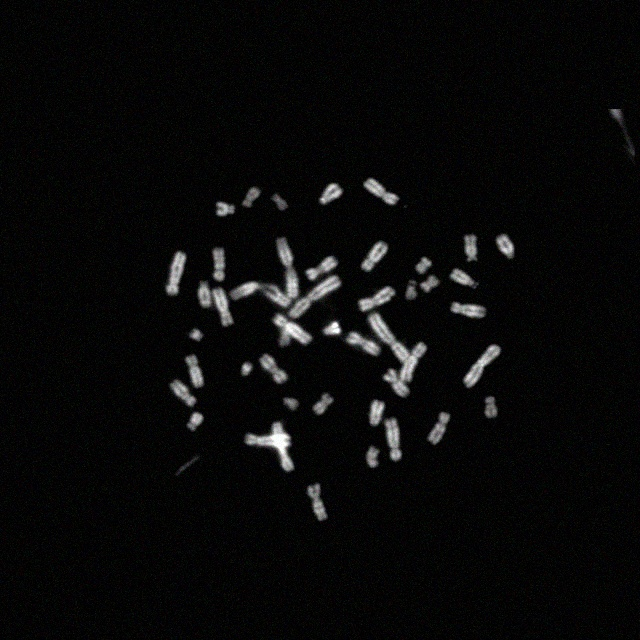chromosome: (368, 312, 414, 372), (290, 274, 342, 318), (228, 280, 290, 308), (463, 344, 501, 388), (276, 238, 298, 300), (400, 342, 428, 382), (272, 422, 294, 472), (274, 314, 310, 344), (165, 250, 187, 296), (365, 177, 399, 205), (358, 285, 394, 311), (259, 353, 287, 385), (306, 253, 338, 280), (361, 242, 389, 272), (212, 288, 233, 328), (384, 418, 404, 460), (346, 332, 380, 356), (382, 369, 410, 397), (243, 432, 292, 448), (428, 411, 450, 445), (308, 484, 327, 522), (185, 353, 205, 387), (449, 268, 479, 290), (450, 301, 486, 319), (172, 381, 196, 407), (496, 234, 516, 260), (211, 248, 227, 280), (320, 182, 342, 204), (312, 393, 334, 415), (367, 400, 385, 426), (243, 187, 262, 210), (464, 234, 478, 264), (197, 280, 211, 310), (483, 396, 499, 419), (186, 411, 204, 431), (279, 322, 293, 346), (322, 320, 342, 336), (366, 447, 380, 469), (272, 193, 288, 211), (216, 201, 234, 217), (422, 276, 438, 292), (282, 396, 298, 412), (416, 255, 430, 273), (405, 281, 417, 301), (188, 328, 204, 342), (242, 362, 252, 378)
